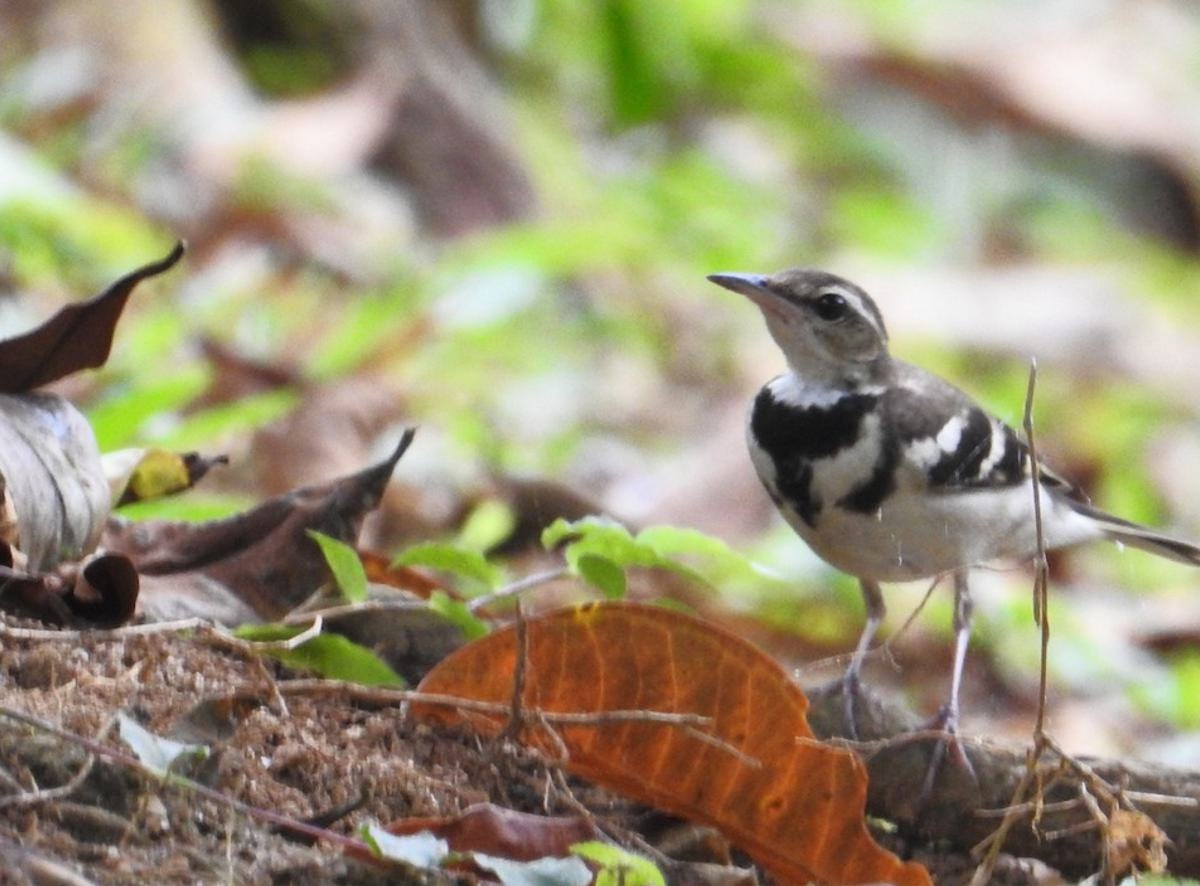wagtail: (639, 231, 1164, 715)
